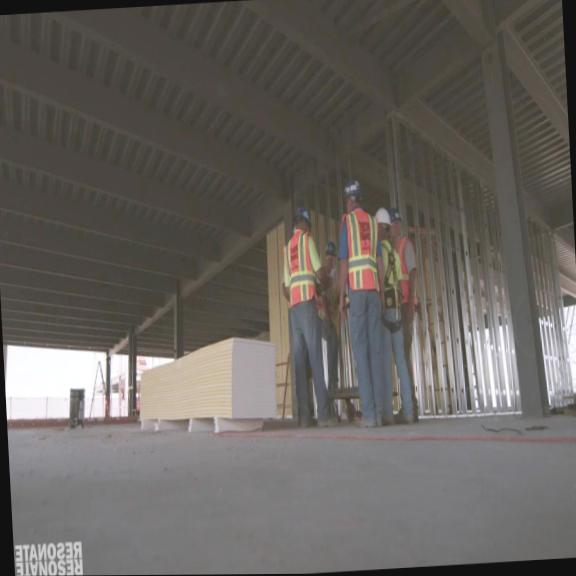safety_vest: (342, 205, 380, 291), (283, 231, 317, 310), (395, 234, 418, 303)
